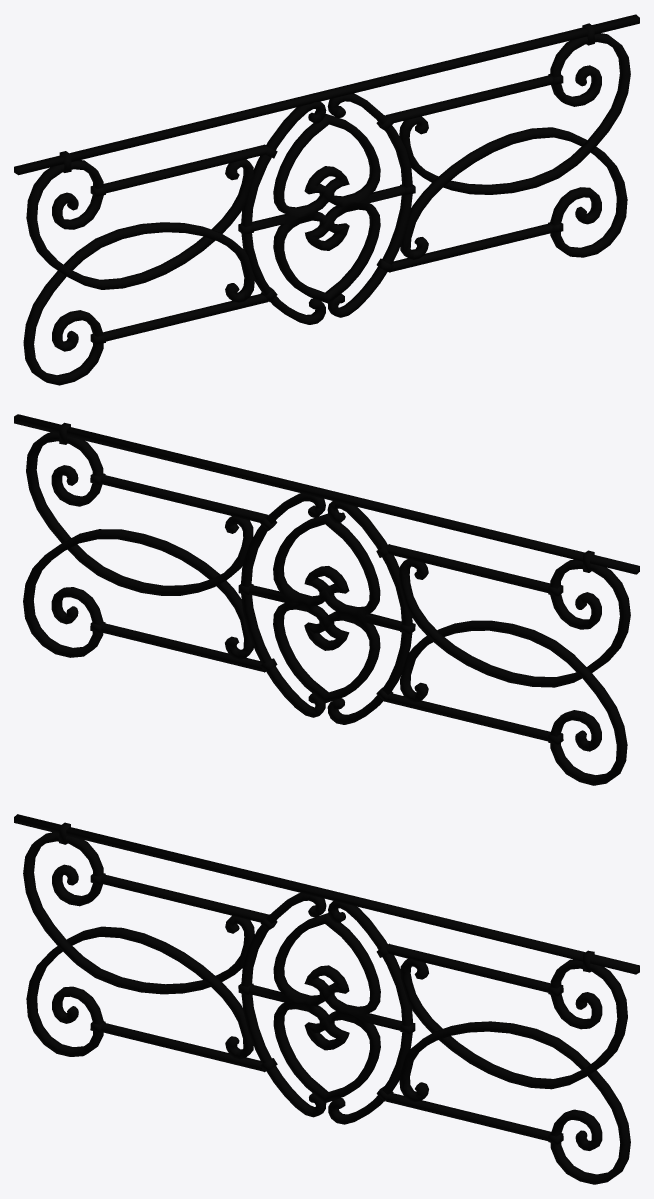
File: railing_ext_edited.gltf
The picture shows the model from 3 angles, top to bottom: view 1: azimuth 30°, elevation 25°; view 2: azimuth 150°, elevation 25°; view 3: azimuth 330°, elevation 25°; orthographic projection.
Parts seen in each view (by area): view 1: Railing_v1; view 2: Railing_v1; view 3: Railing_v1.
Boxes of the visible parts, left/top/right/bottom form: Railing_v1: left=14, top=14, right=639, bottom=385; Railing_v1: left=14, top=414, right=639, bottom=785; Railing_v1: left=14, top=814, right=639, bottom=1184.
Size of the model in its own units: 136 by 48.15 by 3.2.
1 material, 1 textured.
